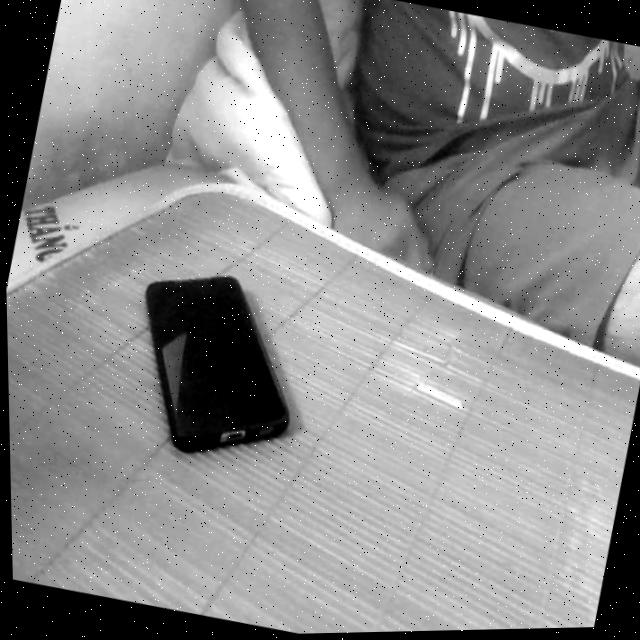phone: (94, 243, 336, 494)
